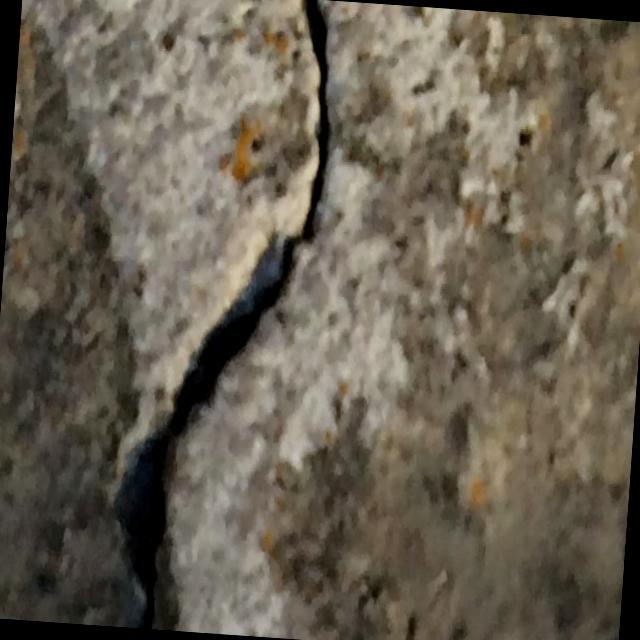crack: (126, 0, 342, 636)
spall: (106, 218, 289, 598)
